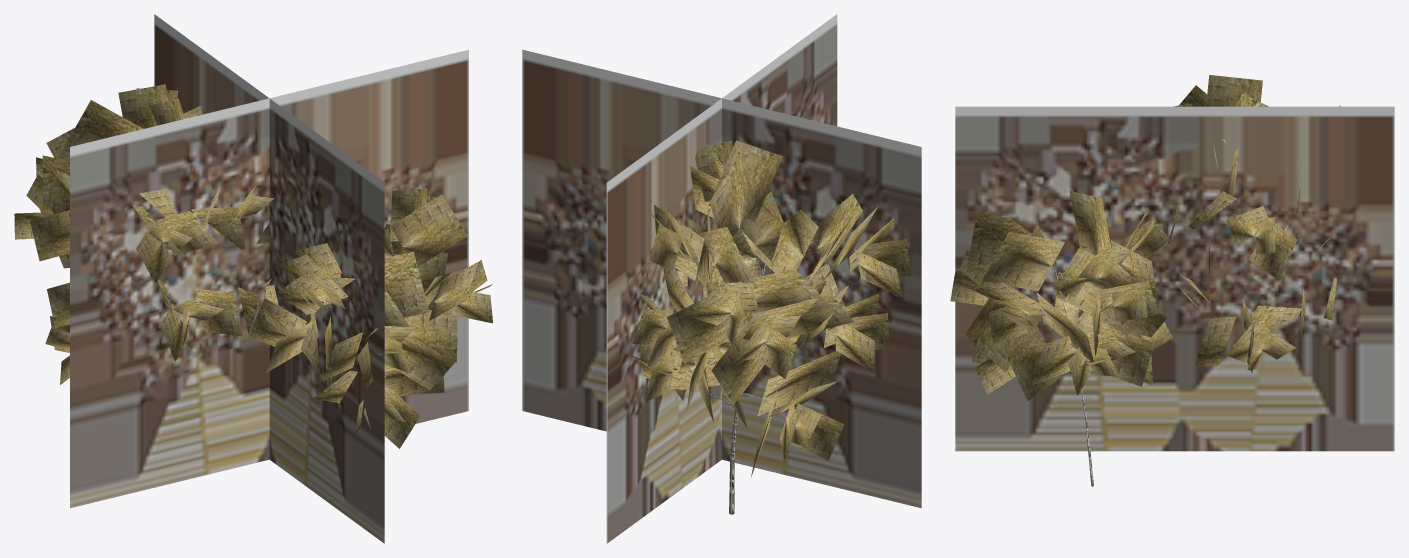
Rendered from Shrub1-4D.fbx.
3 renders of one model, left to right at view 1: azimuth 30°, elevation 25°; view 2: azimuth 150°, elevation 25°; view 3: azimuth 270°, elevation 25°, orthographic. The views are drawn at different scales.
Visible parts, largest first — view 1: Billboard-Shrub1-4D, Shrub1-4D_LOD0; view 2: Billboard-Shrub1-4D, Shrub1-4D_LOD0; view 3: Billboard-Shrub1-4D, Shrub1-4D_LOD0.
Part boxes in pixels (x1,y1,x2,y2): Billboard-Shrub1-4D: (70,14,468,543); Shrub1-4D_LOD0: (14,84,492,448); Billboard-Shrub1-4D: (522,14,921,543); Shrub1-4D_LOD0: (629,140,911,514); Billboard-Shrub1-4D: (955,106,1394,451); Shrub1-4D_LOD0: (950,75,1352,486).
Size of what is drawn, in the model's own units: 414 by 374 by 411.
